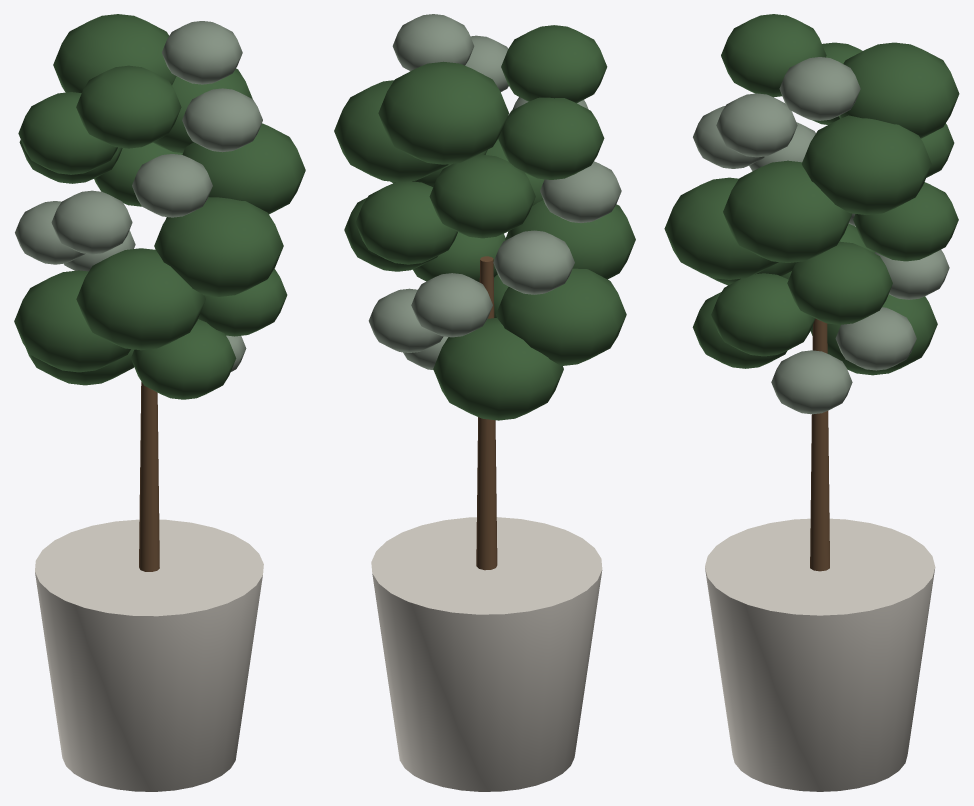
The model's file is plante-6.glb.
3 views of the same model, side by side, from view 1: azimuth 30°, elevation 25°; view 2: azimuth 150°, elevation 25°; view 3: azimuth 270°, elevation 25° (orthographic).
Parts seen in each view (by area): view 1: produit; view 2: produit; view 3: produit.
Part boxes in pixels (x1,y1,x2,y2): produit: (14,14,305,791); produit: (334,14,635,791); produit: (664,14,959,791).
Bounding box in the file's own units: 0.2223 × 0.585 × 0.2176.
